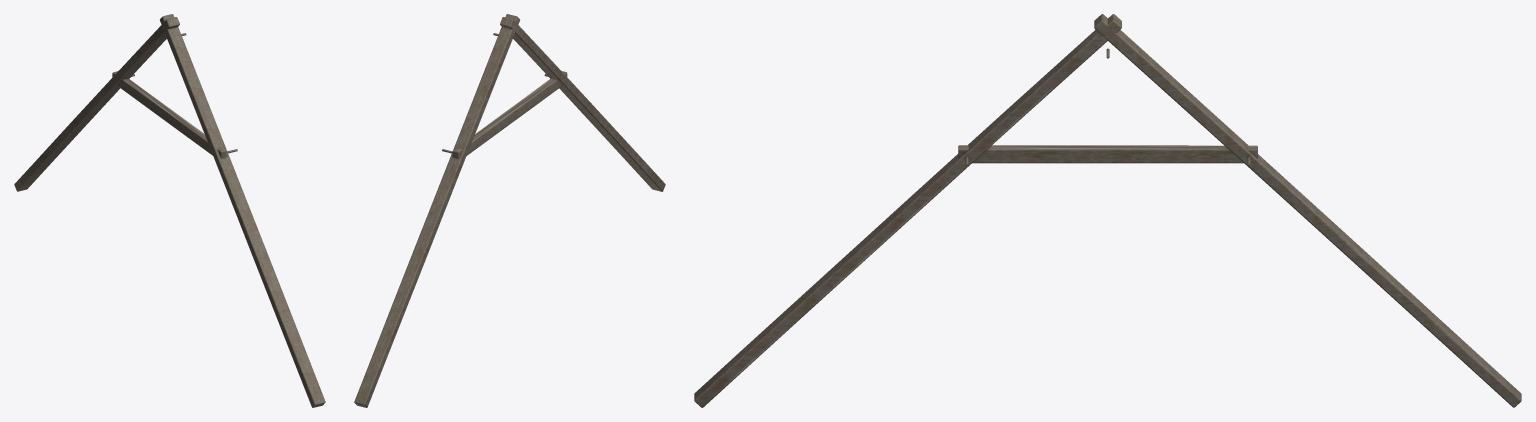
File: rafter_pair_8m.glb
3 renders of one model, left to right at view 1: azimuth 30°, elevation 25°; view 2: azimuth 150°, elevation 25°; view 3: azimuth 270°, elevation 25°, orthographic. The views are drawn at different scales.
Visible parts, largest first — view 1: rafter_pair_8m; view 2: rafter_pair_8m; view 3: rafter_pair_8m.
Boxes of the visible parts, box(x1,y1,x2,y2) form: rafter_pair_8m: box(14, 14, 325, 407); rafter_pair_8m: box(354, 14, 665, 407); rafter_pair_8m: box(694, 14, 1521, 407).
Size of the model in its own units: 0.3936 by 4.85 by 9.39.
1 material, 1 textured.
